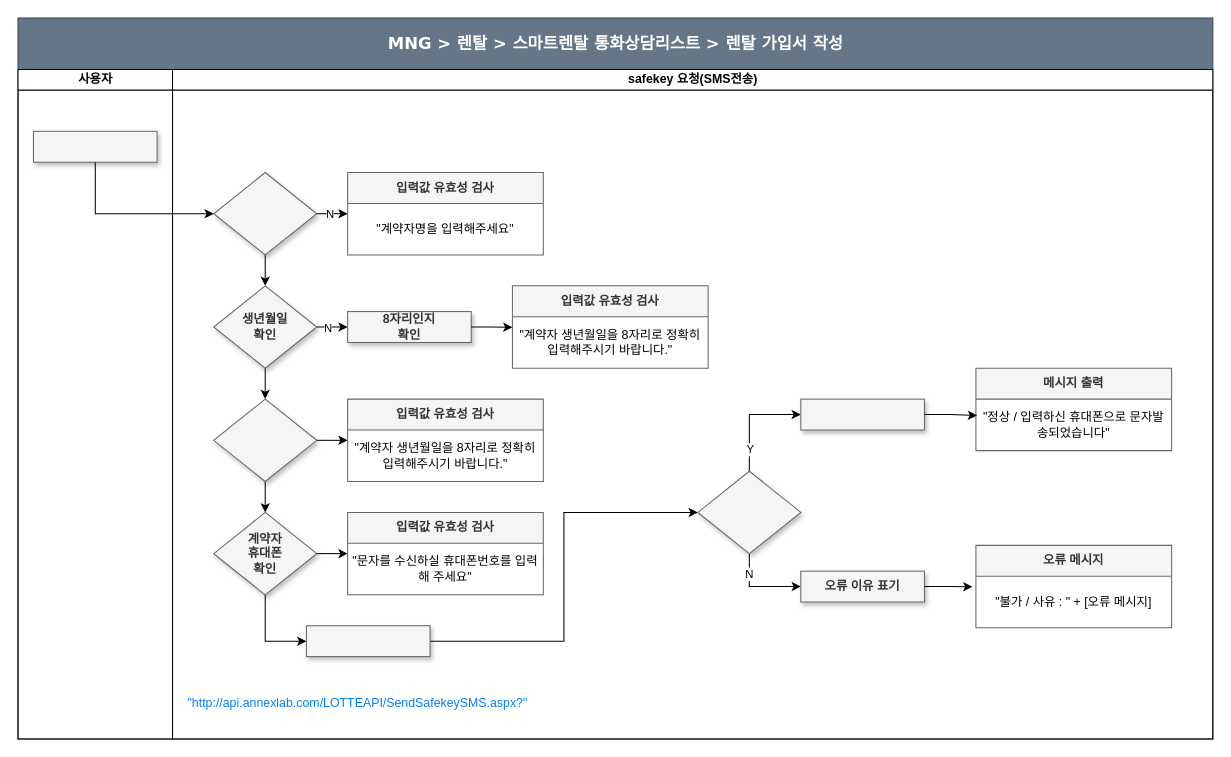
Image size: 1231x757. Some labels were removed from this diagram. The centre of each missing label's shape, as x and y in pixels:
API 호출: the point at 750,513
계약자명 확인: the point at 266,214
사용자 입력 필드 비활성화: the point at 863,415
성별 확인: the point at 266,441
세이프키 URL 생성: the point at 368,642
세이프키 발급요청(SMS 전송): the point at 95,147
